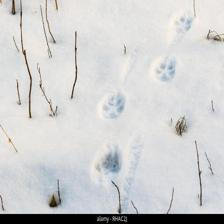coyote: (100, 93, 128, 122), (154, 57, 179, 87)
